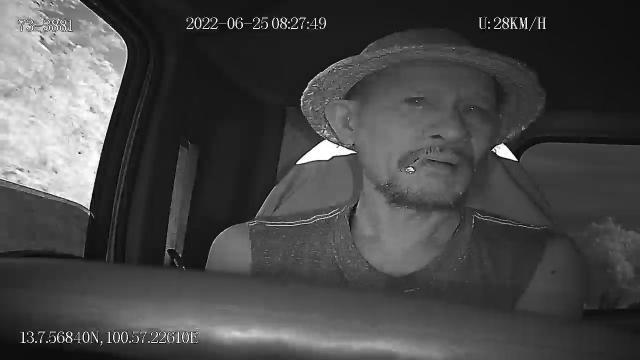SafeDriving: (399, 88, 437, 115)
Smoking: (406, 154, 430, 176)
